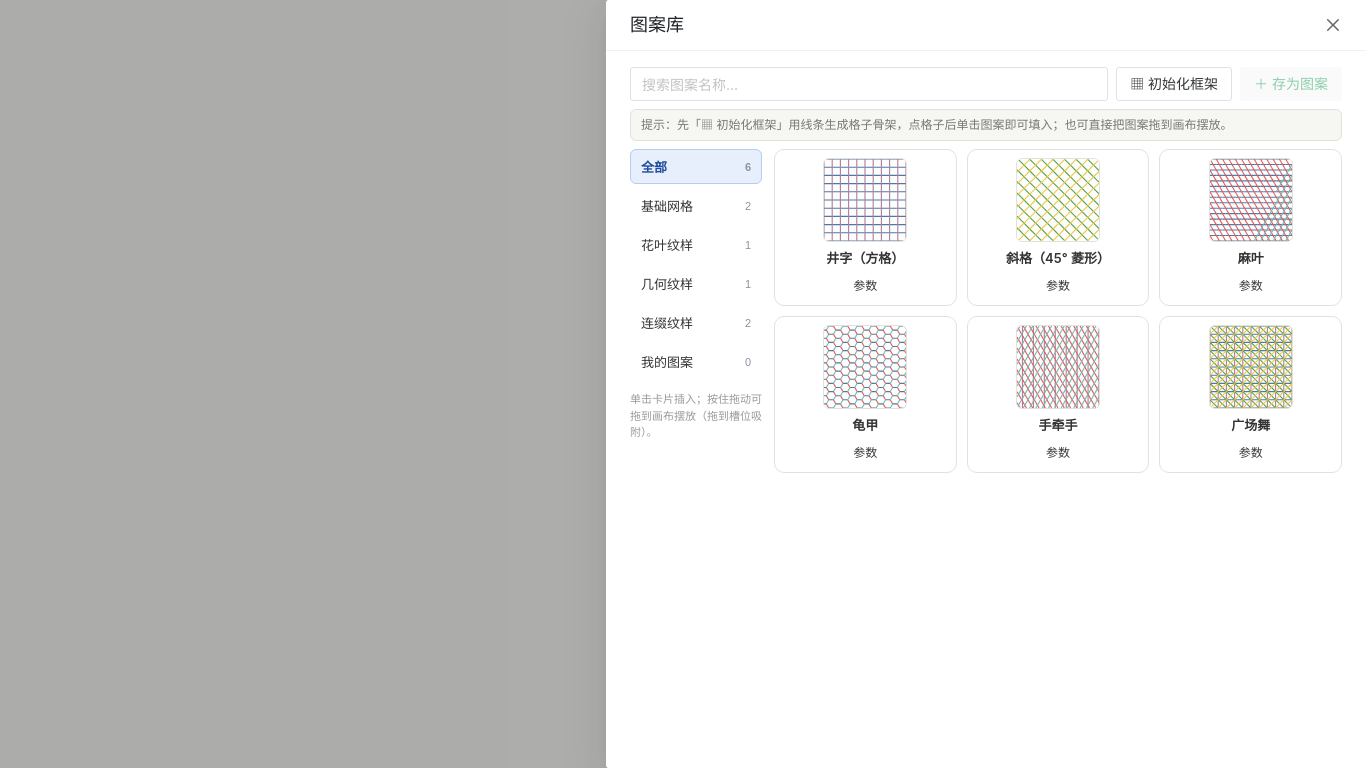
Test case: PatternLibraryPanel：图案库面板 › 启用框架后提示显示行列 / 线条数与已填格数
The width and height of the screenshot is (1366, 768).
Step 1. Clear the field with placeholder "搜索图案名称…" → point(859, 84), box x1=642 y1=67 x2=1076 y2=101
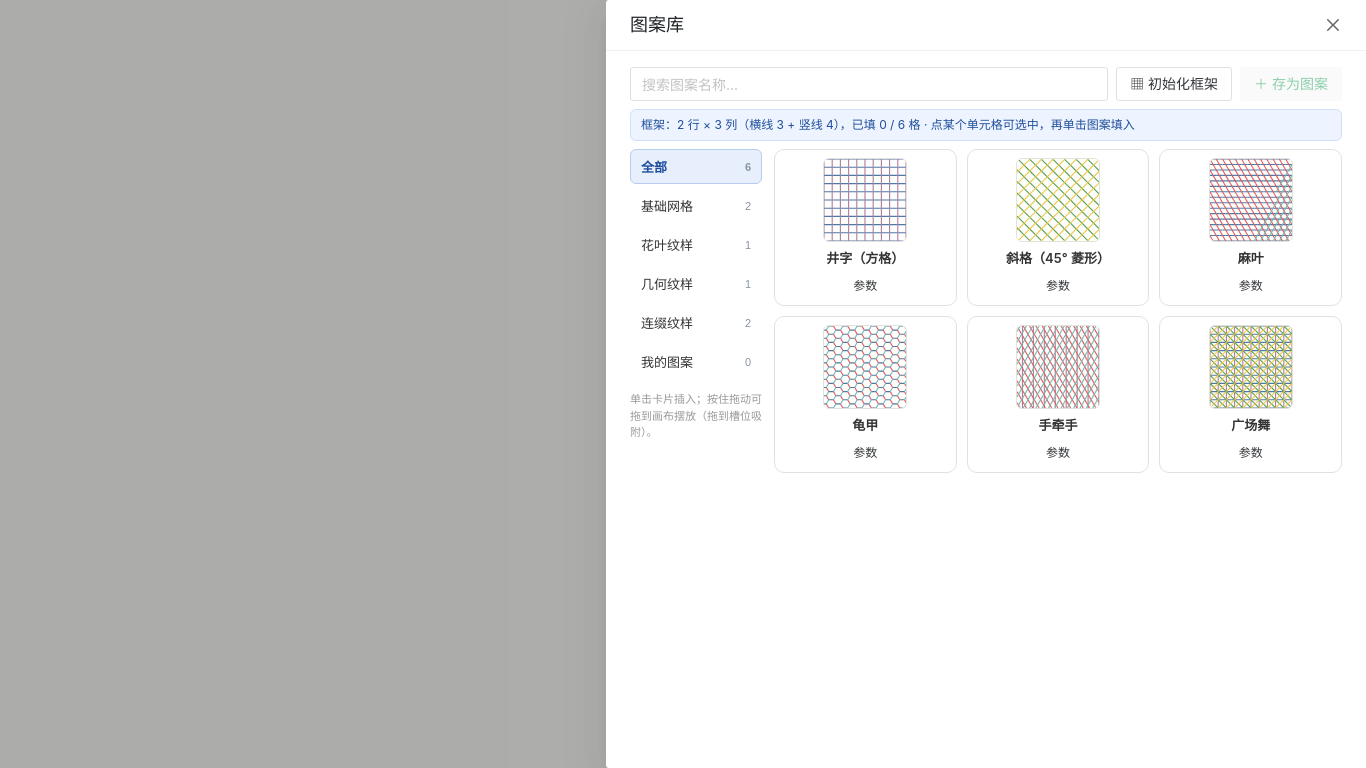
Now the text "2 行 × 3 列" is shown, box x1=641 y1=117 x2=1135 y2=132
Now the text "横线 3 + 竖线 4" is shown, box x1=641 y1=117 x2=1135 y2=132
Now the text "已填 0 / 6 格" is shown, box x1=641 y1=117 x2=1135 y2=132
